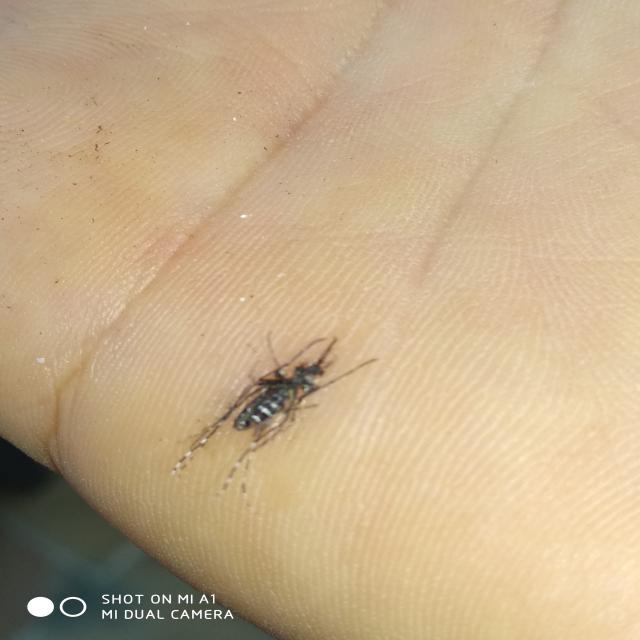albopictus: (173, 327, 383, 486)
